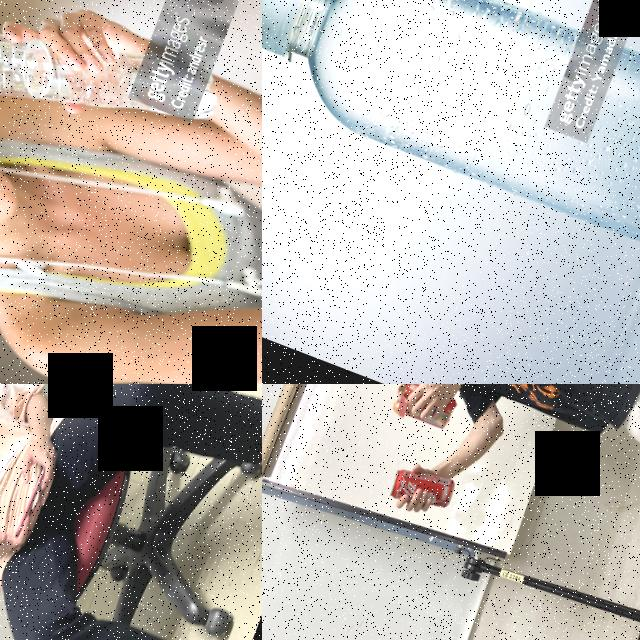bottle: (262, 0, 640, 258), (0, 0, 228, 169)
can: (387, 458, 458, 517)
